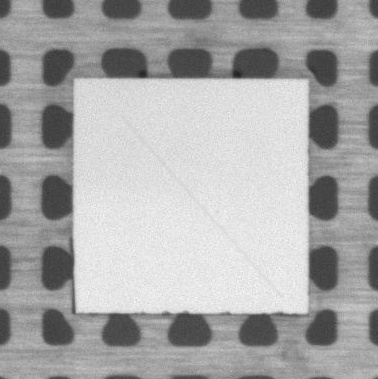DIE_CRACK: (123, 118, 280, 297)
